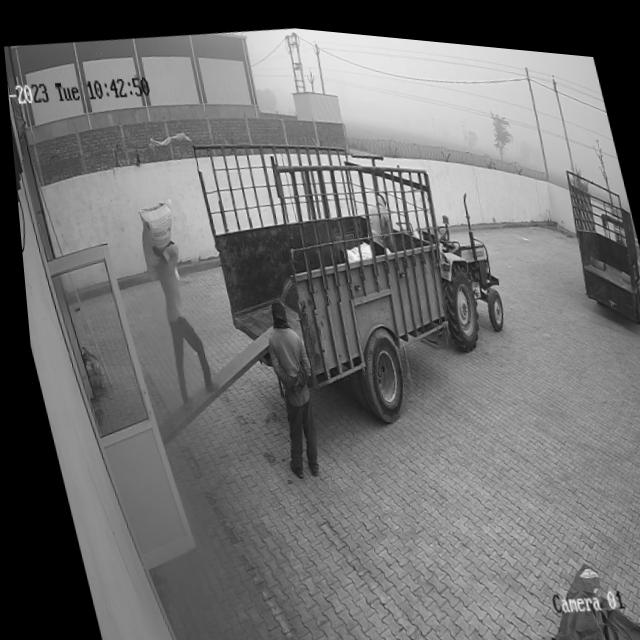sack: (125, 193, 185, 283)
